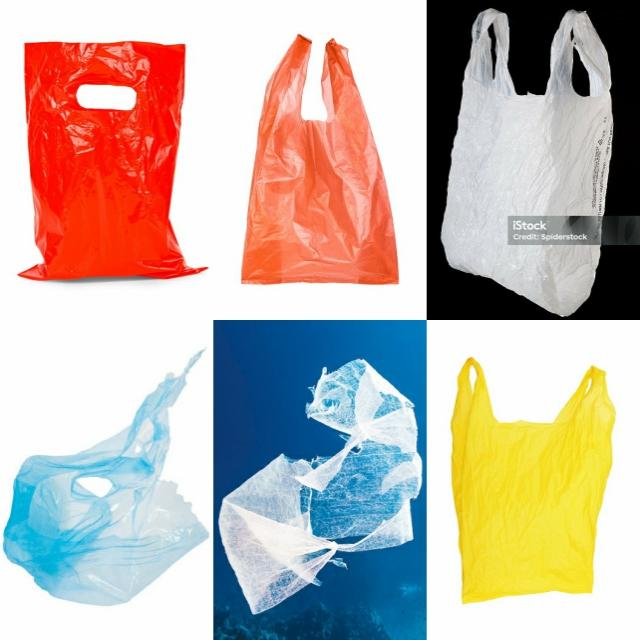Single-layer Plastic: (441, 9, 612, 315), (4, 352, 208, 605), (220, 359, 422, 614), (20, 41, 204, 280), (451, 357, 615, 603), (242, 35, 398, 283)
